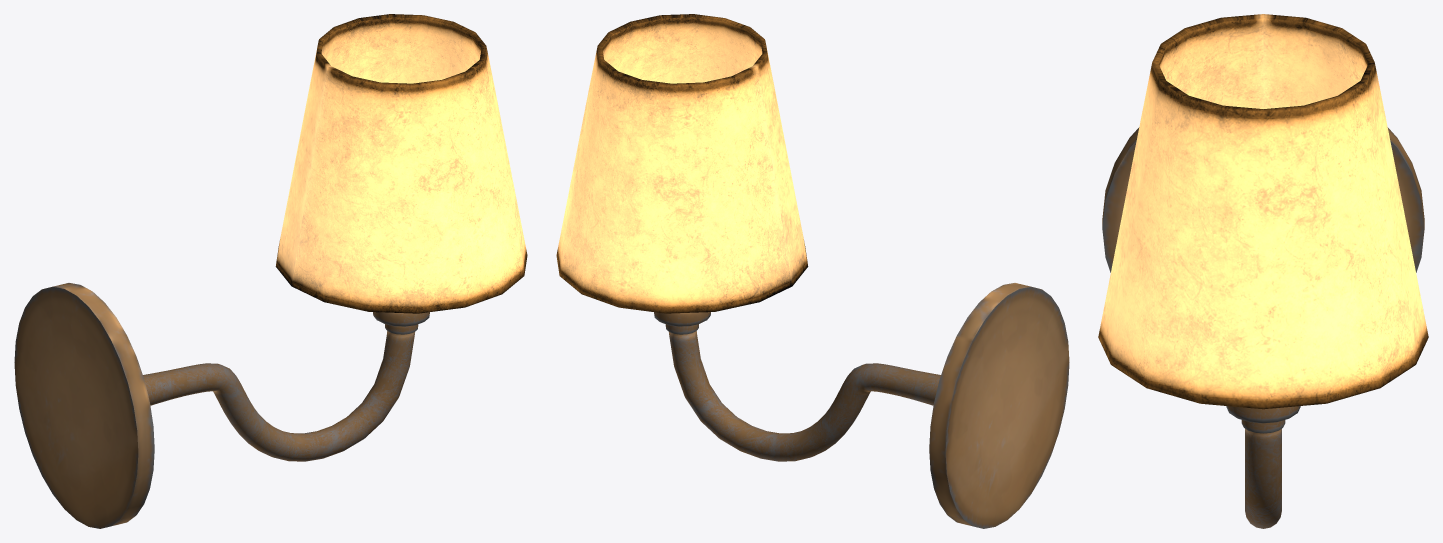
File: cozy_wall_lamp.glb
The picture shows the model from 3 angles, left to right: view 1: azimuth 30°, elevation 25°; view 2: azimuth 150°, elevation 25°; view 3: azimuth 270°, elevation 25°; orthographic projection. The views are drawn at different scales.
Visible parts, largest first — view 1: NurbsPath; view 2: NurbsPath; view 3: NurbsPath.
Boxes of the visible parts, x1,y1,x2,y2 form: NurbsPath: (14,14,527,528); NurbsPath: (556,14,1069,528); NurbsPath: (1098,14,1428,528).
Size of the model in its own units: 1.82 by 1.57 by 0.9192.
1 material, 1 textured.
